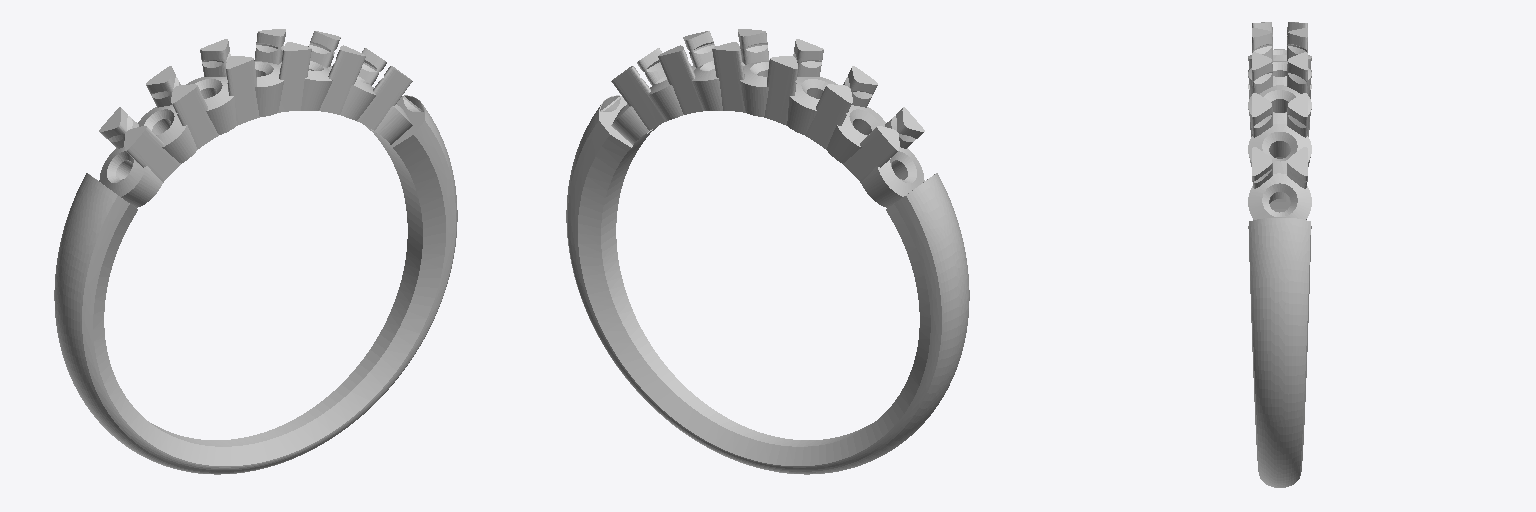
File: ring1.obj
The picture shows the model from 3 angles: view 1: azimuth 30°, elevation 25°; view 2: azimuth 150°, elevation 25°; view 3: azimuth 270°, elevation 25°; orthographic projection.
Parts seen in each view (by area): view 1: R17.8; view 2: R17.8; view 3: R17.8.
Part boxes in pixels (x1,y1,x2,y2): R17.8: (54, 29, 457, 474); R17.8: (566, 29, 969, 474); R17.8: (1248, 22, 1311, 487).
Bounding box in the file's own units: 21.92 × 22.54 × 3.09.